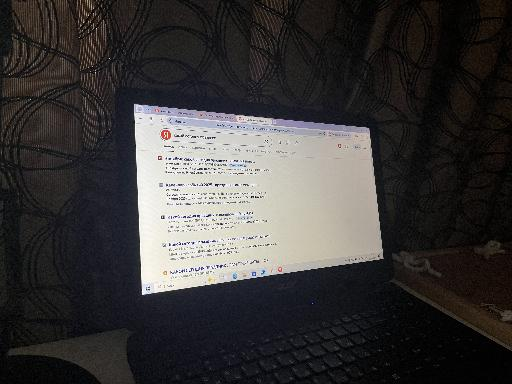yandex: (143, 124, 368, 284)
